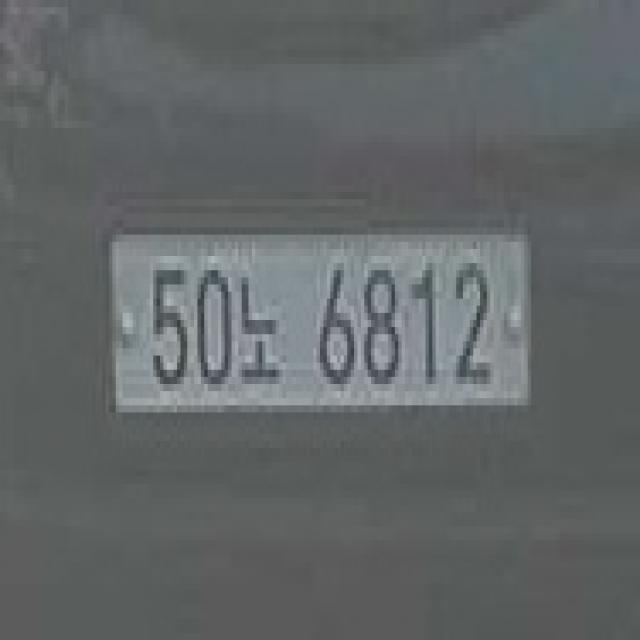0: (194, 255, 231, 398)
1: (410, 256, 442, 392)
2: (453, 262, 492, 390)
5: (143, 258, 190, 398)
6: (316, 253, 358, 396)
8: (363, 254, 401, 393)
license_plate: (106, 218, 530, 424)
no: (238, 266, 280, 401)
